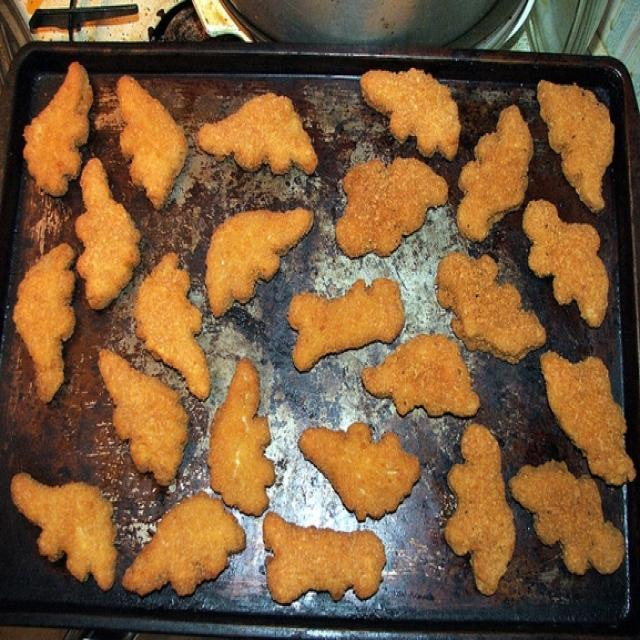鸡肉料理 含炸鸡: (18, 37, 619, 625)
